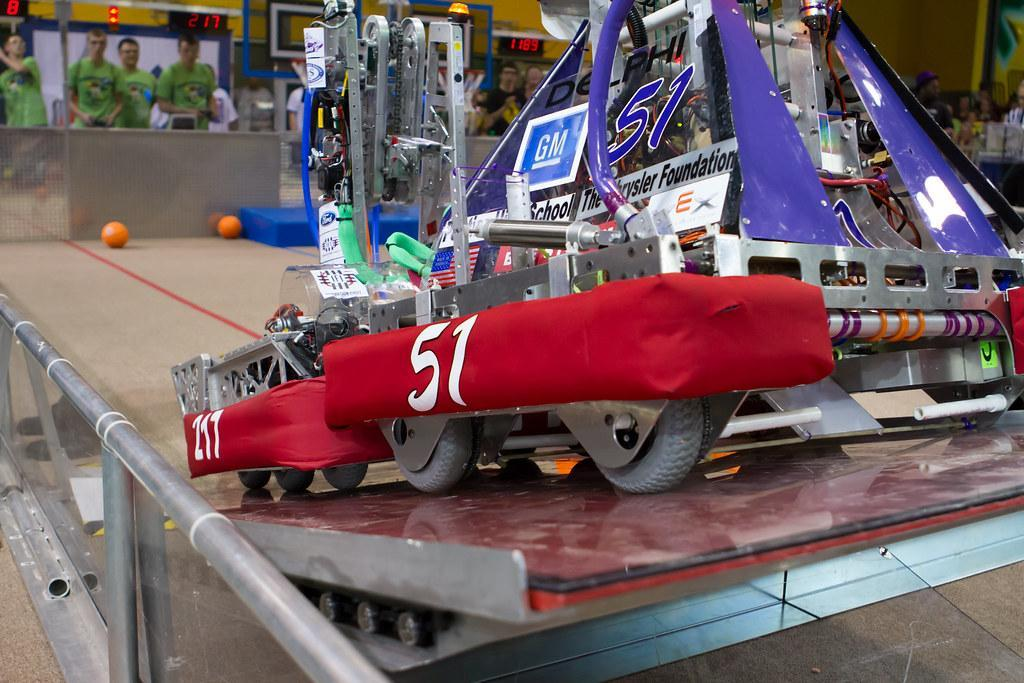robot: (323, 0, 1024, 510), (173, 0, 546, 517)
